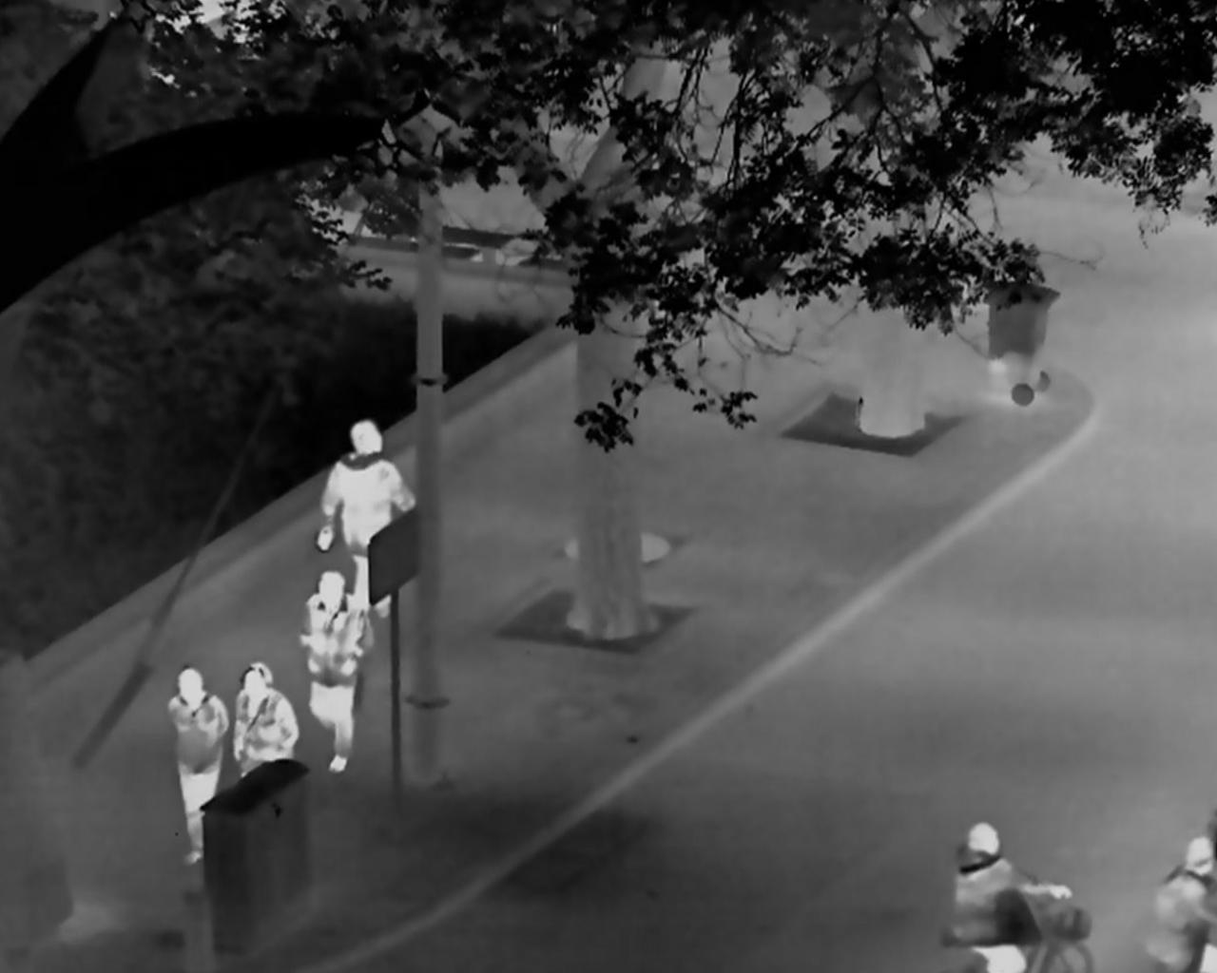person: (316, 418, 416, 621), (943, 821, 1074, 973), (299, 569, 376, 773), (165, 665, 230, 866), (1143, 835, 1216, 973), (230, 661, 299, 780)
